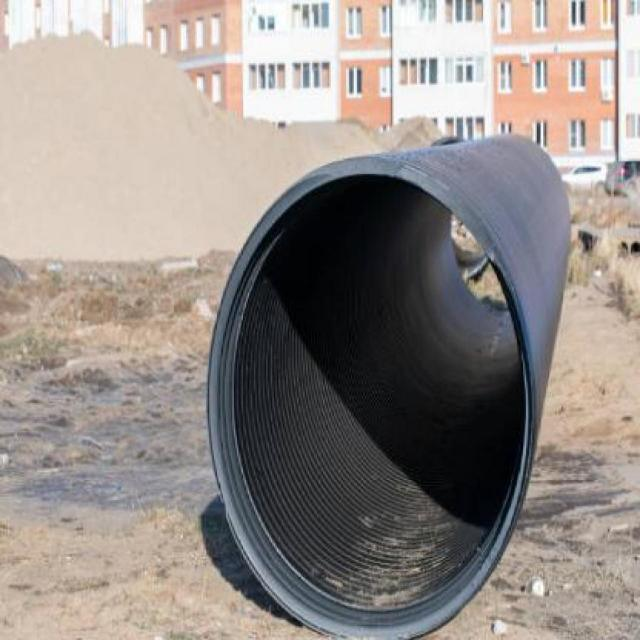pipe: (205, 160, 535, 639)
